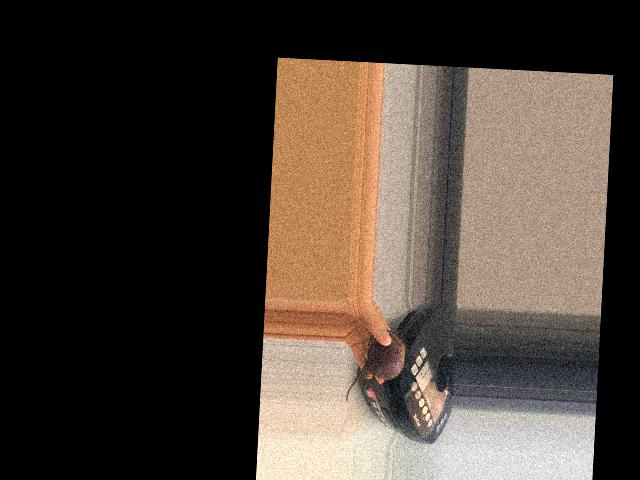beet: (346, 328, 408, 405)
